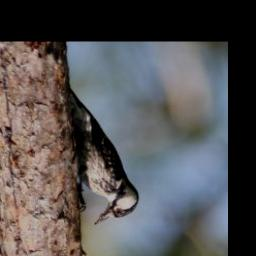Woodpecker: (69, 81, 139, 226)
